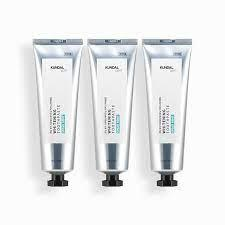toothpaste: (82, 32, 144, 190), (139, 31, 198, 194), (26, 33, 83, 194)
